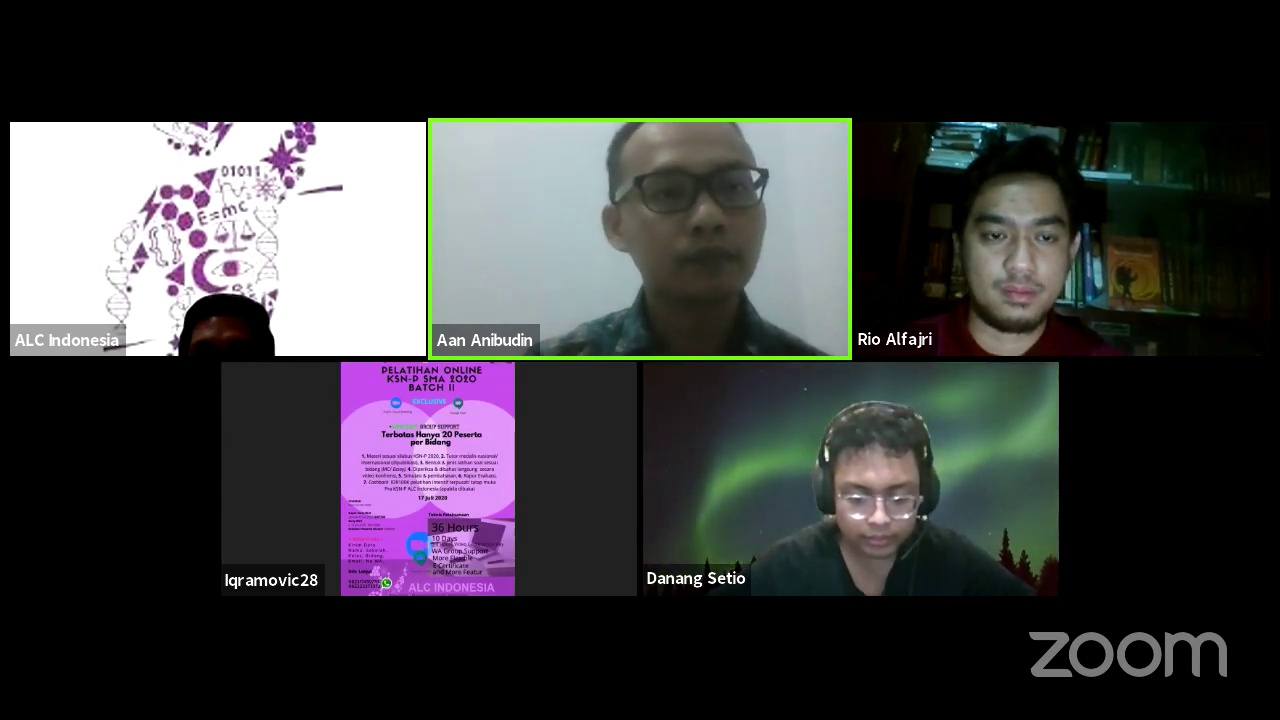Distracted: (819, 416, 936, 553)
Not Distracted: (601, 125, 771, 298), (947, 167, 1084, 330)
